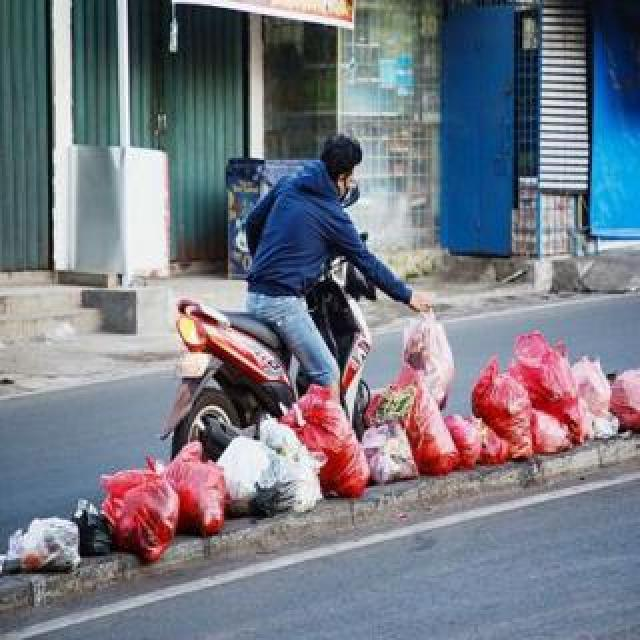high trash: (1, 316, 640, 572)
